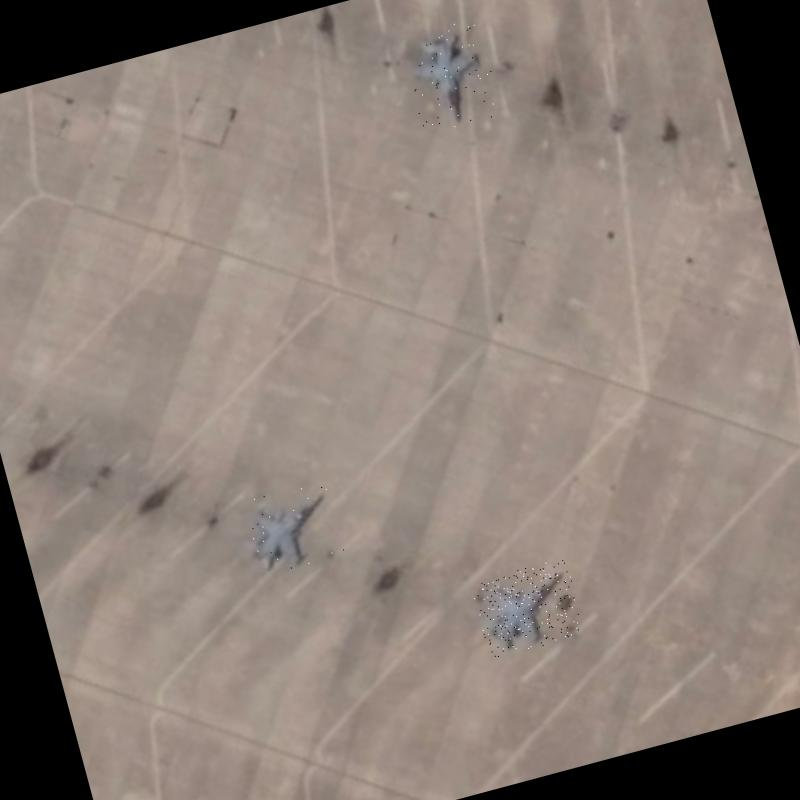A16: (397, 15, 505, 138), (470, 556, 586, 660), (232, 478, 348, 580)
